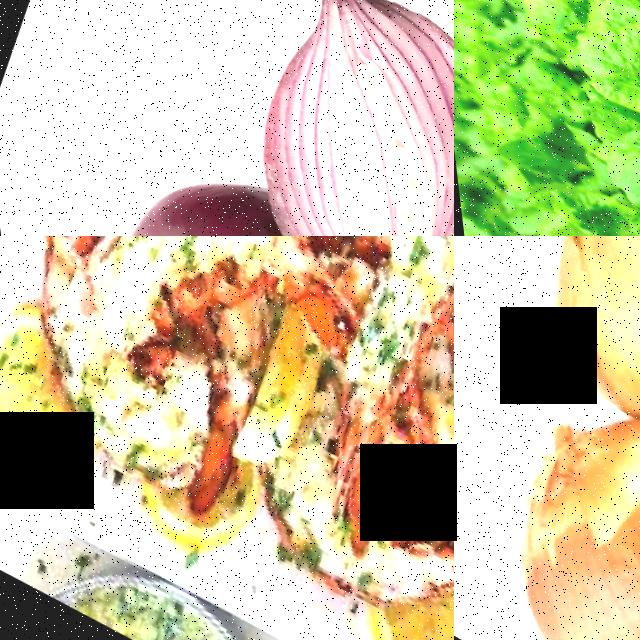lemon: (0, 311, 83, 472), (337, 565, 454, 640)
lettuce: (498, 0, 640, 236), (475, 151, 640, 236)
lobster tails: (151, 236, 384, 380), (0, 236, 174, 347)
onion: (203, 0, 454, 236), (454, 395, 640, 640), (486, 236, 640, 446), (37, 170, 437, 236)
